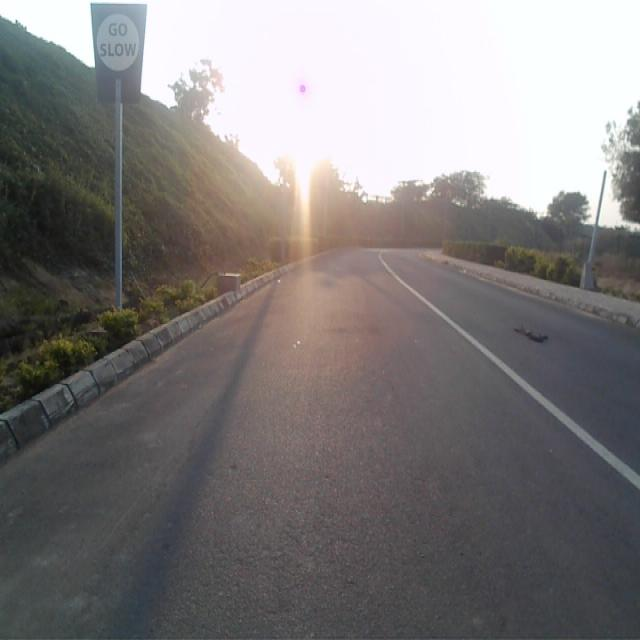lane: (0, 252, 640, 640)
